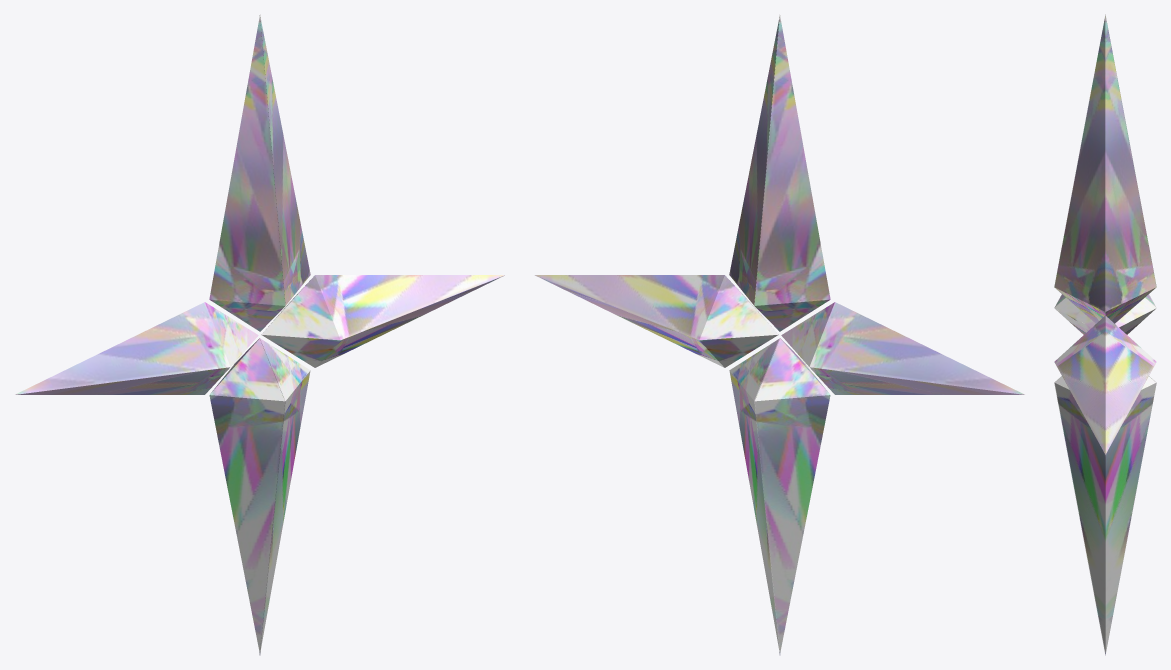
Rendered from checkpoint.obj.
The picture shows the model from 3 angles, left to right: view 1: azimuth 30°, elevation 25°; view 2: azimuth 150°, elevation 25°; view 3: azimuth 270°, elevation 25°; orthographic projection.
Visible parts, largest first — view 1: polySurface1; view 2: polySurface1; view 3: polySurface1.
Boxes of the visible parts, bbox=[...] form: polySurface1: bbox=[15, 14, 505, 655]; polySurface1: bbox=[534, 14, 1024, 655]; polySurface1: bbox=[1054, 14, 1156, 655].
Size of the model in its own units: 7.83 by 9.77 by 1.41.
